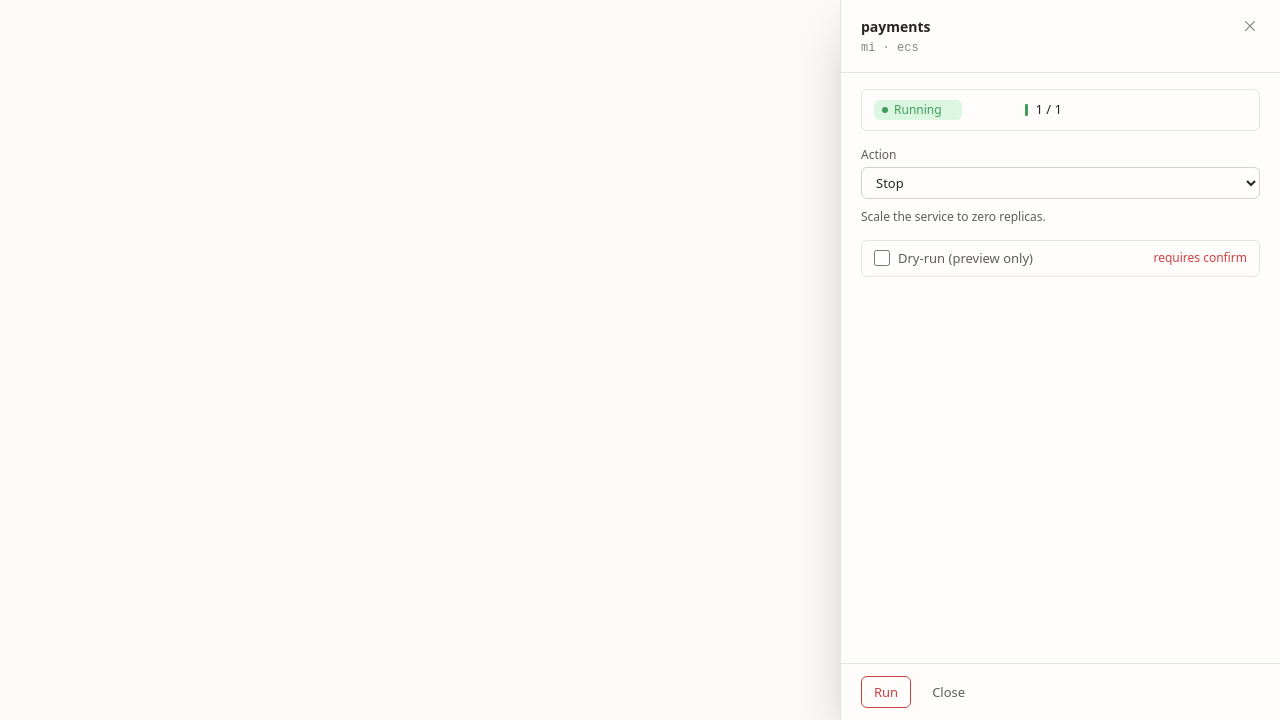
<ChaosDrawer mode=actions/> destructive flow › renders the execute result + auditId
Select "Start / scale" in the dropdown labelled "Action" at point(1060, 183), box x1=861 y1=167 x2=1260 y2=199
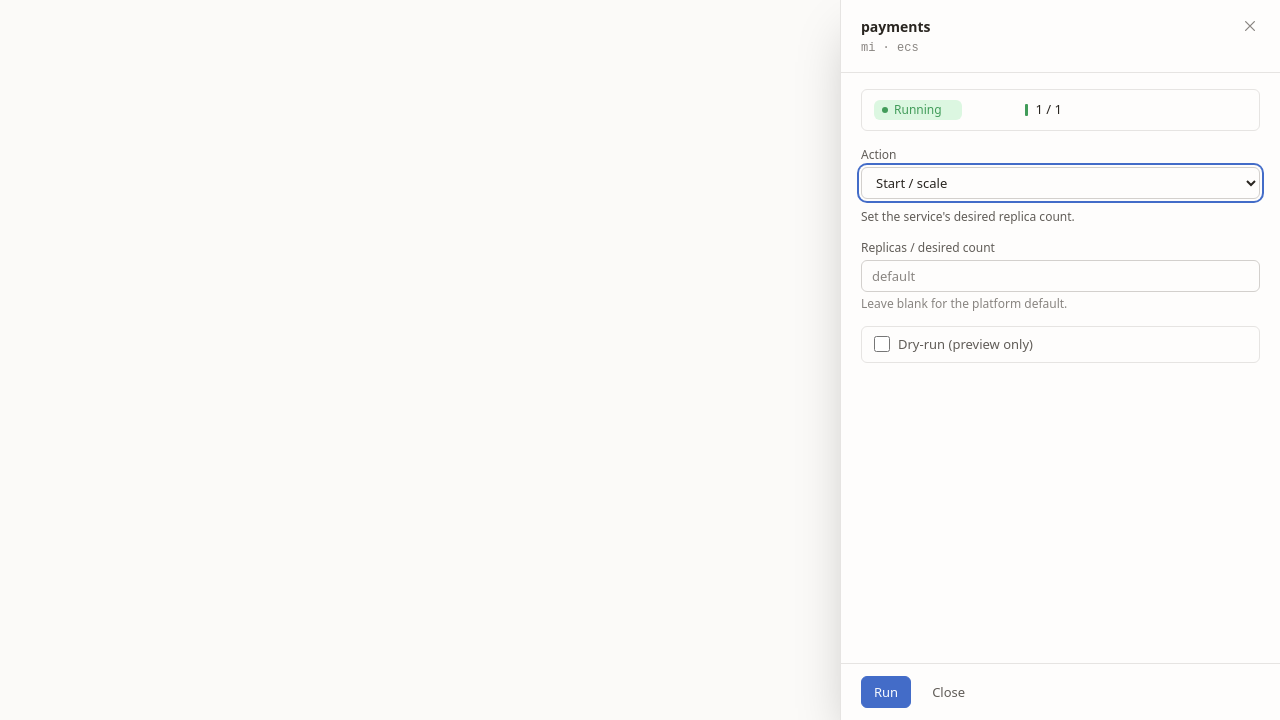
Click the button "Run" at point(886, 692), box x1=861 y1=676 x2=911 y2=708
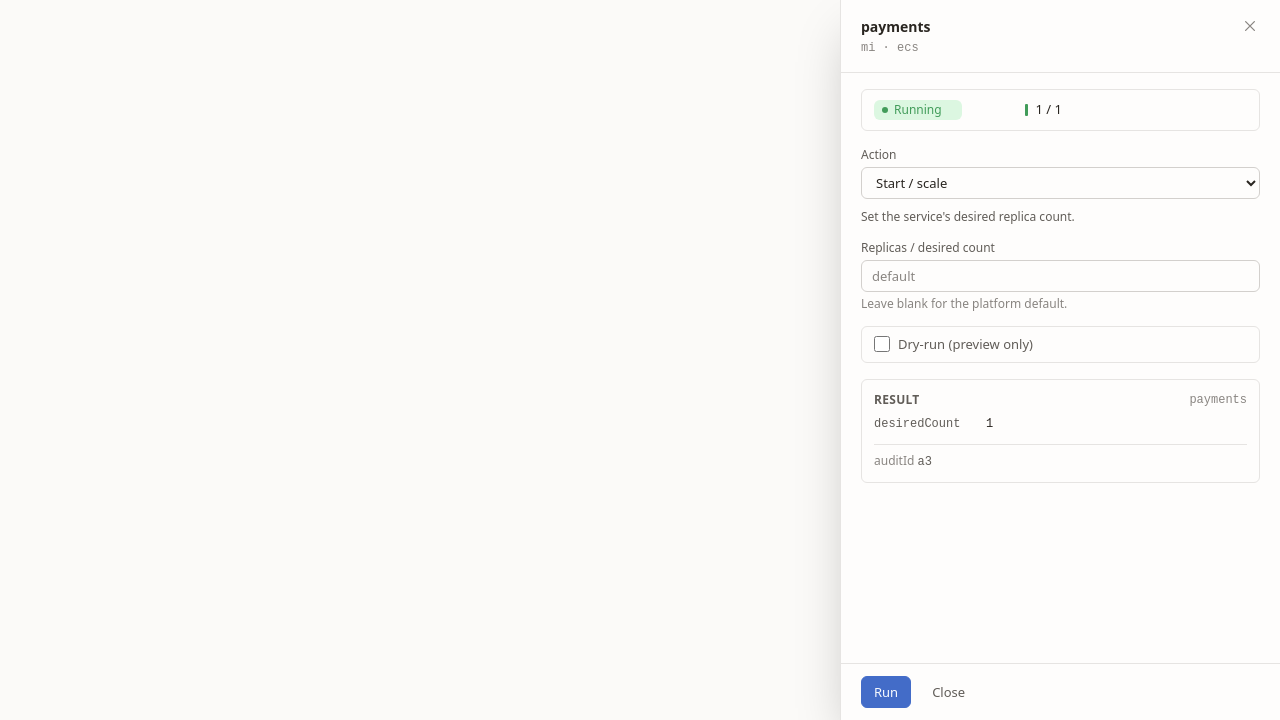
Expected: the text "desiredCount" is shown, x1=874 y1=416 x2=970 y2=432
Expected: the text "a3" is shown, x1=918 y1=454 x2=932 y2=468
